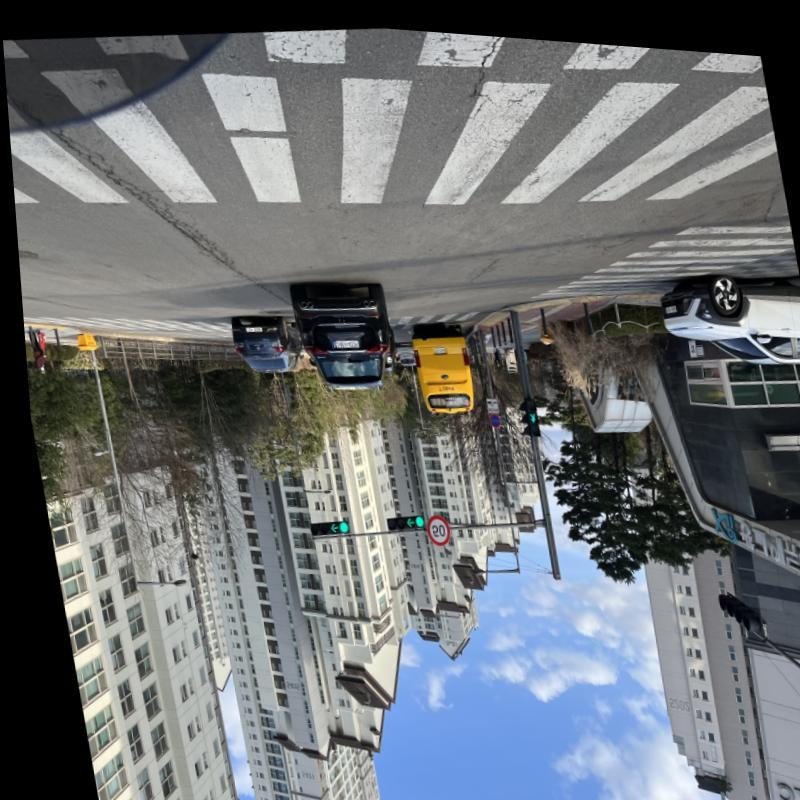green: (330, 516, 342, 529), (406, 510, 416, 522)
left: (321, 517, 331, 529), (397, 510, 407, 522)
